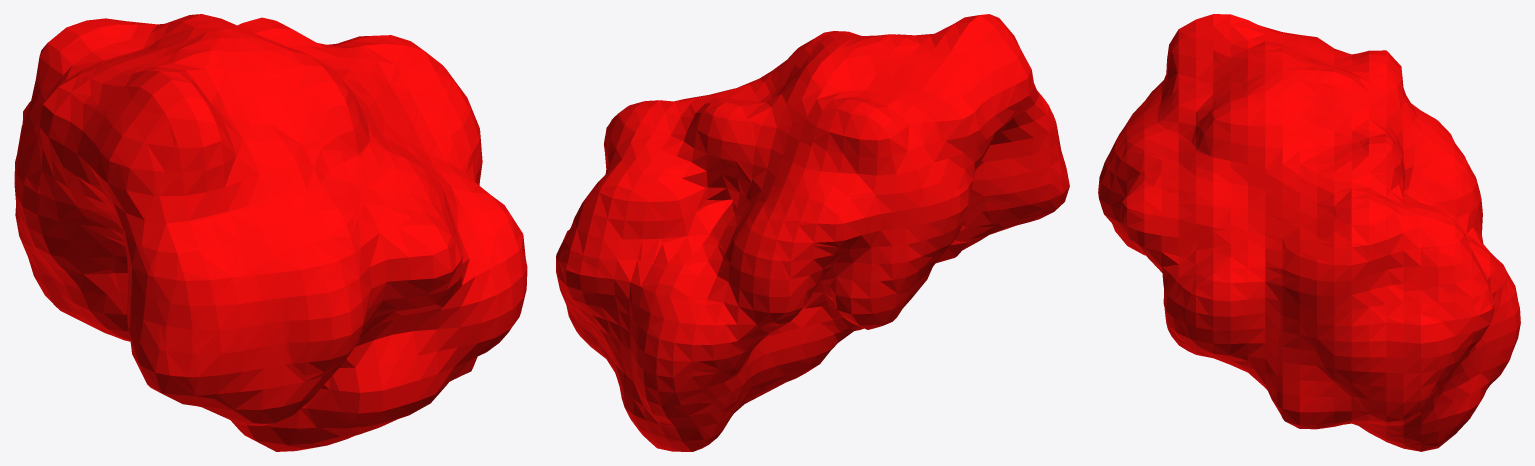
File: curA_coarse.dae
3 renders of one model, left to right at view 1: azimuth 30°, elevation 25°; view 2: azimuth 150°, elevation 25°; view 3: azimuth 270°, elevation 25°, orthographic. The views are drawn at different scales.
Parts seen in each view (by area): view 1: curA; view 2: curA; view 3: curA.
Boxes of the visible parts, x1,y1,x2,y2 form: curA: [14, 14, 527, 451]; curA: [556, 14, 1069, 451]; curA: [1098, 14, 1520, 451].
Size of the model in its own units: 53.14 by 55.92 by 60.88.
